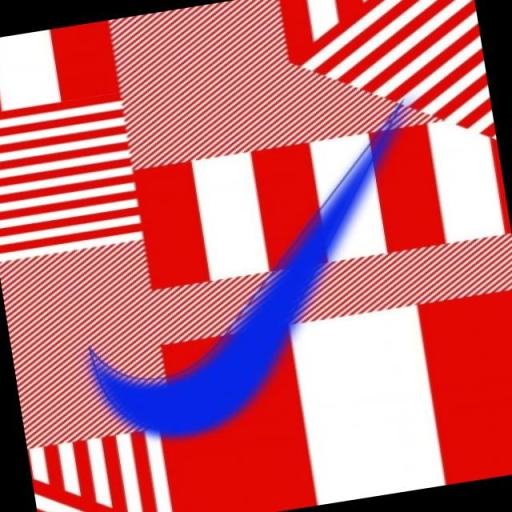Nike: (41, 90, 476, 475)
